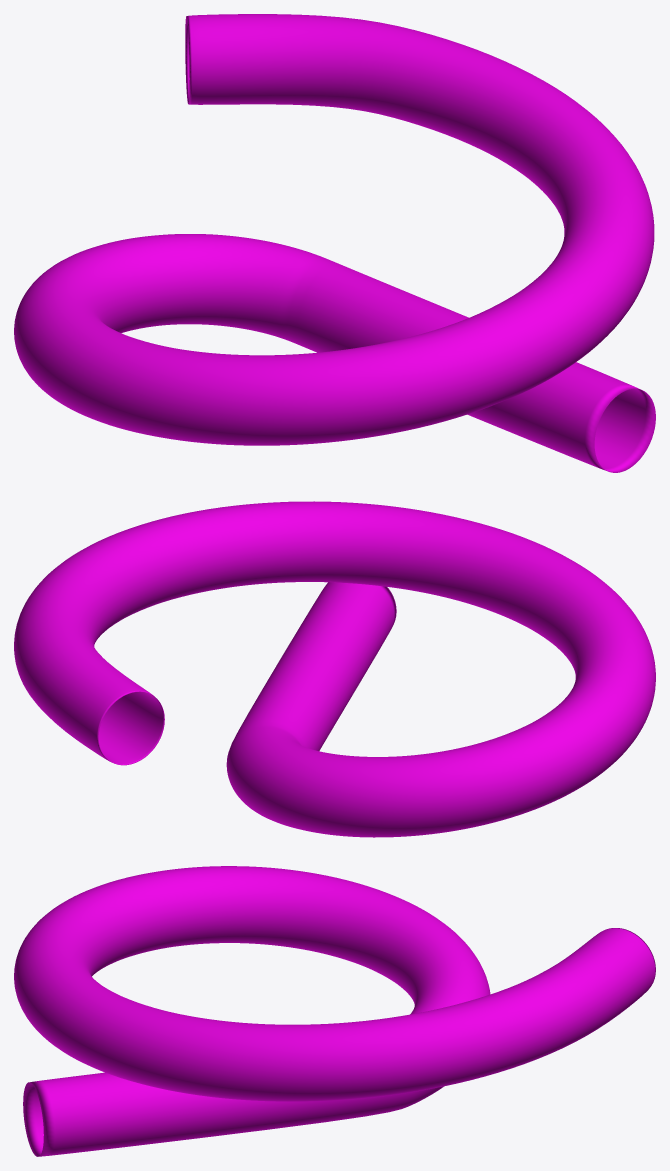
File: Curved slide 2.0.fbx
3 renders of one model, top to bottom at view 1: azimuth 30°, elevation 25°; view 2: azimuth 150°, elevation 25°; view 3: azimuth 270°, elevation 25°, orthographic. The views are drawn at different scales.
Visible parts, largest first — view 1: Spiral.001; view 2: Spiral.001; view 3: Spiral.001.
Boxes of the visible parts, box(x1,y1,x2,y2) form: Spiral.001: box(14, 14, 655, 472); Spiral.001: box(14, 501, 655, 837); Spiral.001: box(14, 866, 655, 1156).
Bounding box in the file's own units: 3015 × 1083 × 3344.
